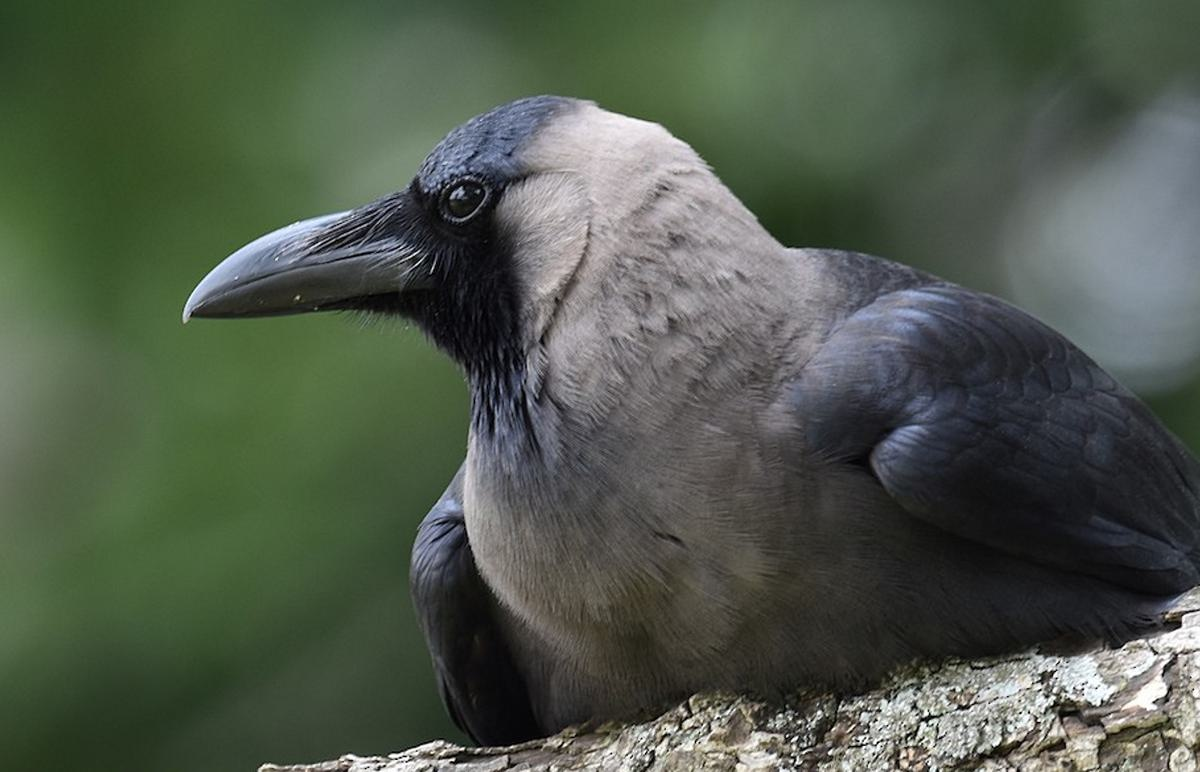crow: (174, 81, 1200, 701)
